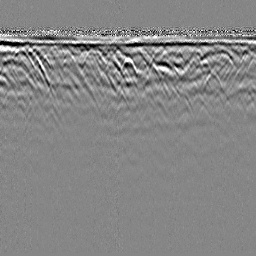cavity: (120, 55, 139, 75)
